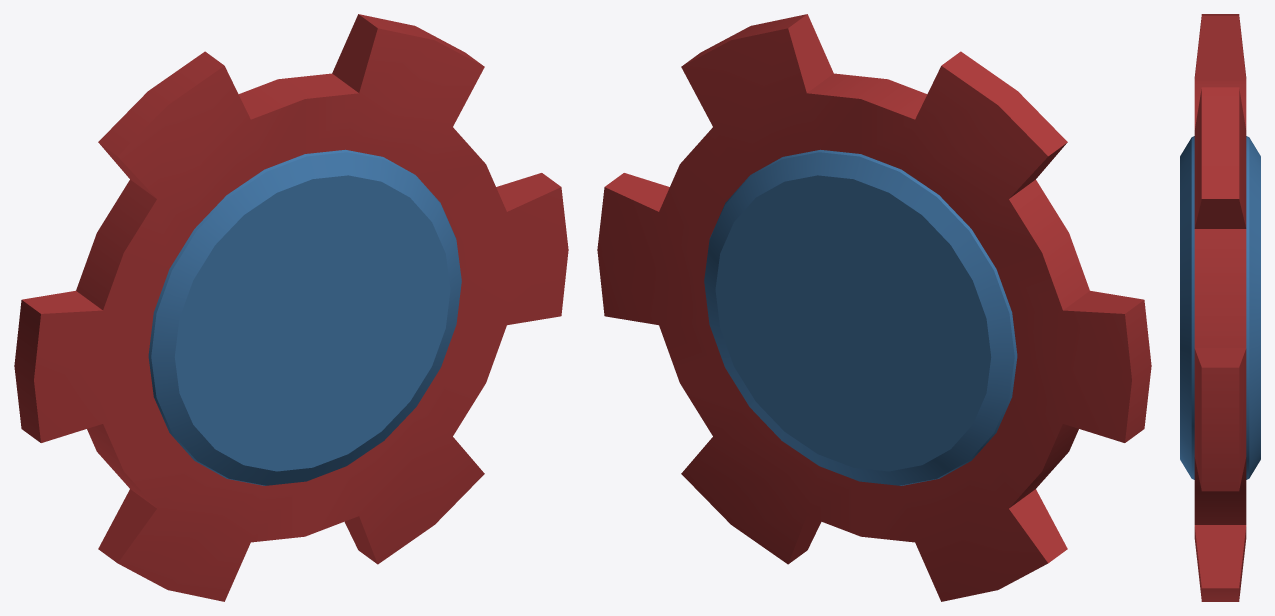
File: Saw_A.fbx
3 views of the same model, side by side, from view 1: azimuth 30°, elevation 25°; view 2: azimuth 150°, elevation 25°; view 3: azimuth 270°, elevation 25° (orthographic). The views are drawn at different scales.
Visible parts, largest first — view 1: Saw_A; view 2: Saw_A; view 3: Saw_A.
Boxes of the visible parts, box(x1,y1,x2,y2) form: Saw_A: box(14, 14, 568, 601); Saw_A: box(597, 14, 1151, 601); Saw_A: box(1180, 14, 1260, 601).
Bounding box in the file's own units: 48.45 × 46.44 × 6.64.
